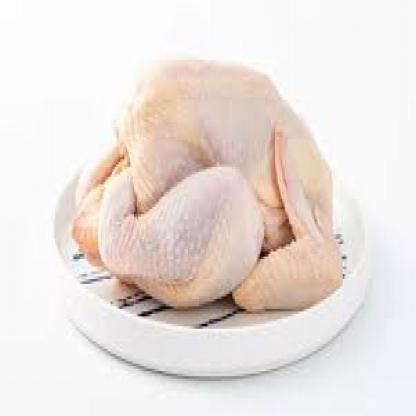chicken: (73, 48, 344, 312)
